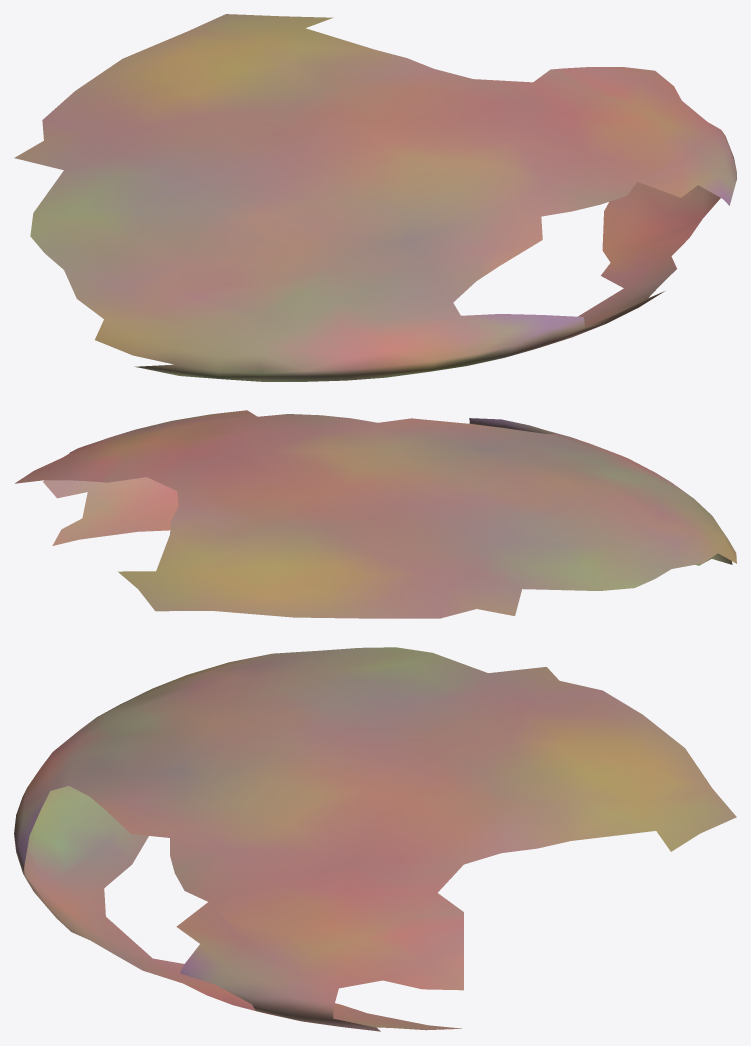
The model's file is space-nebulae-nebula_v43.glb.
The picture shows the model from 3 angles, top to bottom: view 1: azimuth 30°, elevation 25°; view 2: azimuth 150°, elevation 25°; view 3: azimuth 270°, elevation 25°; orthographic projection. The views are drawn at different scales.
Visible parts, largest first — view 1: Nebula_v43; view 2: Nebula_v43; view 3: Nebula_v43.
Part boxes in pixels (<box>): Nebula_v43: <box>14,14,736,381</box>; Nebula_v43: <box>15,410,736,618</box>; Nebula_v43: <box>14,647,736,1031</box>.
Bounding box in the file's own units: 0.5 × 0.0777 × 0.4482.
